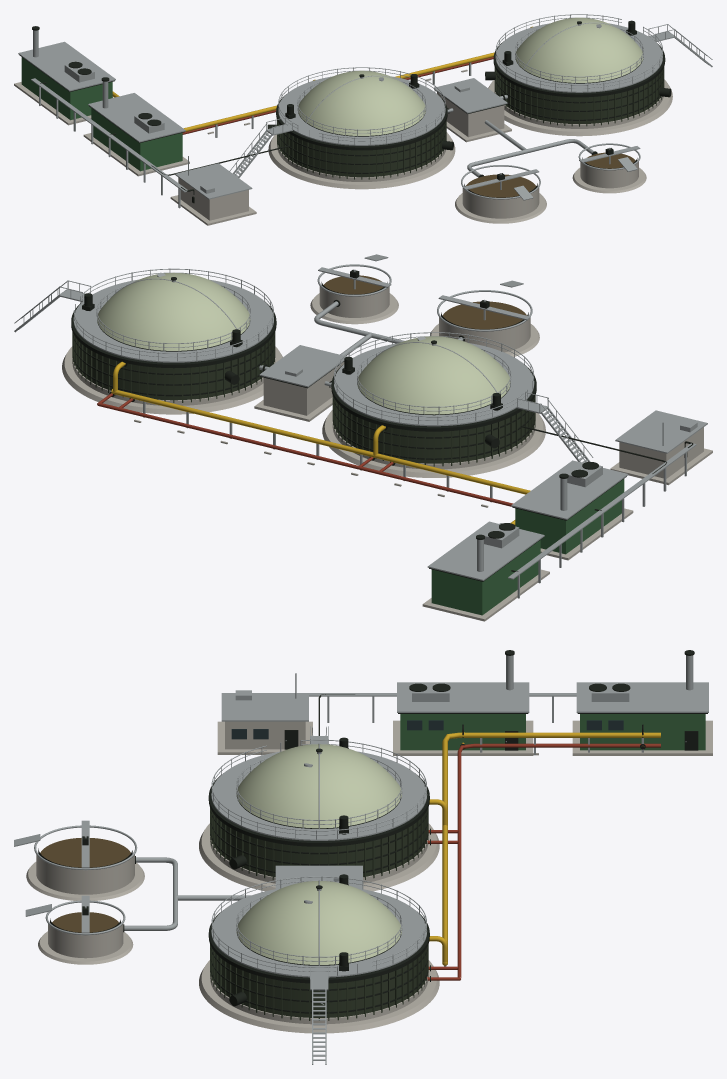
The model's file is iona-tesis-3d.glb.
3 renders of one model, top to bottom at view 1: azimuth 30°, elevation 25°; view 2: azimuth 150°, elevation 25°; view 3: azimuth 270°, elevation 25°, orthographic. The views are drawn at different scales.
Parts seen in each view (by area): view 1: gas_dome (×2), roof_fascia (×4), tank_wall (×2), dome_walkway (×2), wall_back (×4), foundation_pad (×2), wall_left (×4), pool_wall (×2), top_ring (×2), slab (×4), wall_plinth (×2), substrate_surface (×2) (+9 smaller); view 2: gas_dome (×2), roof_fascia (×4), dome_walkway (×2), tank_wall (×2), wall_right (×4), wall_back (×4), foundation_pad (×2), pool_wall (×2), top_ring (×2), gas_header, substrate_surface (×2), slab (×3) (+6 smaller); view 3: gas_dome (×2), roof_fascia (×4), dome_walkway (×2), tank_wall (×2), wall_front (×3), foundation_pad (×2), pool_wall (×2), top_ring (×2), slab (×3), substrate_surface (×2), gas_header, wall_plinth (×2) (+4 smaller).
Part boxes in pixels (bbox=[...]): gas_dome (×2): bbox=[297, 17, 643, 135]; roof_fascia (×4): bbox=[18, 41, 507, 199]; tank_wall (×2): bbox=[281, 71, 659, 177]; dome_walkway (×2): bbox=[278, 23, 662, 145]; wall_back (×4): bbox=[21, 57, 469, 220]; foundation_pad (×2): bbox=[268, 79, 672, 189]; wall_left (×4): bbox=[71, 82, 503, 220]; pool_wall (×2): bbox=[462, 162, 638, 218]; top_ring (×2): bbox=[276, 41, 665, 150]; slab (×4): bbox=[14, 82, 511, 225]; wall_plinth (×2): bbox=[277, 92, 663, 181]; substrate_surface (×2): bbox=[466, 152, 635, 197]; gas_dome (×2): bbox=[97, 272, 510, 414]; roof_fascia (×4): bbox=[259, 345, 707, 580]; dome_walkway (×2): bbox=[73, 279, 534, 426]; tank_wall (×2): bbox=[75, 337, 532, 463]; wall_right (×4): bbox=[264, 378, 664, 614]; wall_back (×4): bbox=[305, 362, 703, 615]; foundation_pad (×2): bbox=[62, 346, 545, 477]; pool_wall (×2): bbox=[319, 286, 530, 352]; top_ring (×2): bbox=[71, 301, 536, 431]; gas_header: bbox=[111, 389, 530, 525]; substrate_surface (×2): bbox=[323, 275, 526, 329]; slab (×3): bbox=[422, 448, 712, 621]; gas_dome (×2): bbox=[236, 744, 401, 964]; roof_fascia (×4): bbox=[221, 682, 708, 888]; dome_walkway (×2): bbox=[211, 751, 427, 977]; tank_wall (×2): bbox=[215, 813, 425, 1017]; wall_front (×3): bbox=[225, 714, 705, 750]; foundation_pad (×2): bbox=[199, 823, 439, 1033]; pool_wall (×2): bbox=[36, 855, 134, 958]; top_ring (×2): bbox=[208, 773, 429, 983]; slab (×3): bbox=[217, 720, 712, 755]; substrate_surface (×2): bbox=[40, 838, 130, 932]; gas_header: bbox=[442, 732, 660, 964]; wall_plinth (×2): bbox=[210, 836, 428, 1024].
Bounding box in the file's own units: 90.49 × 11.86 × 77.77.
